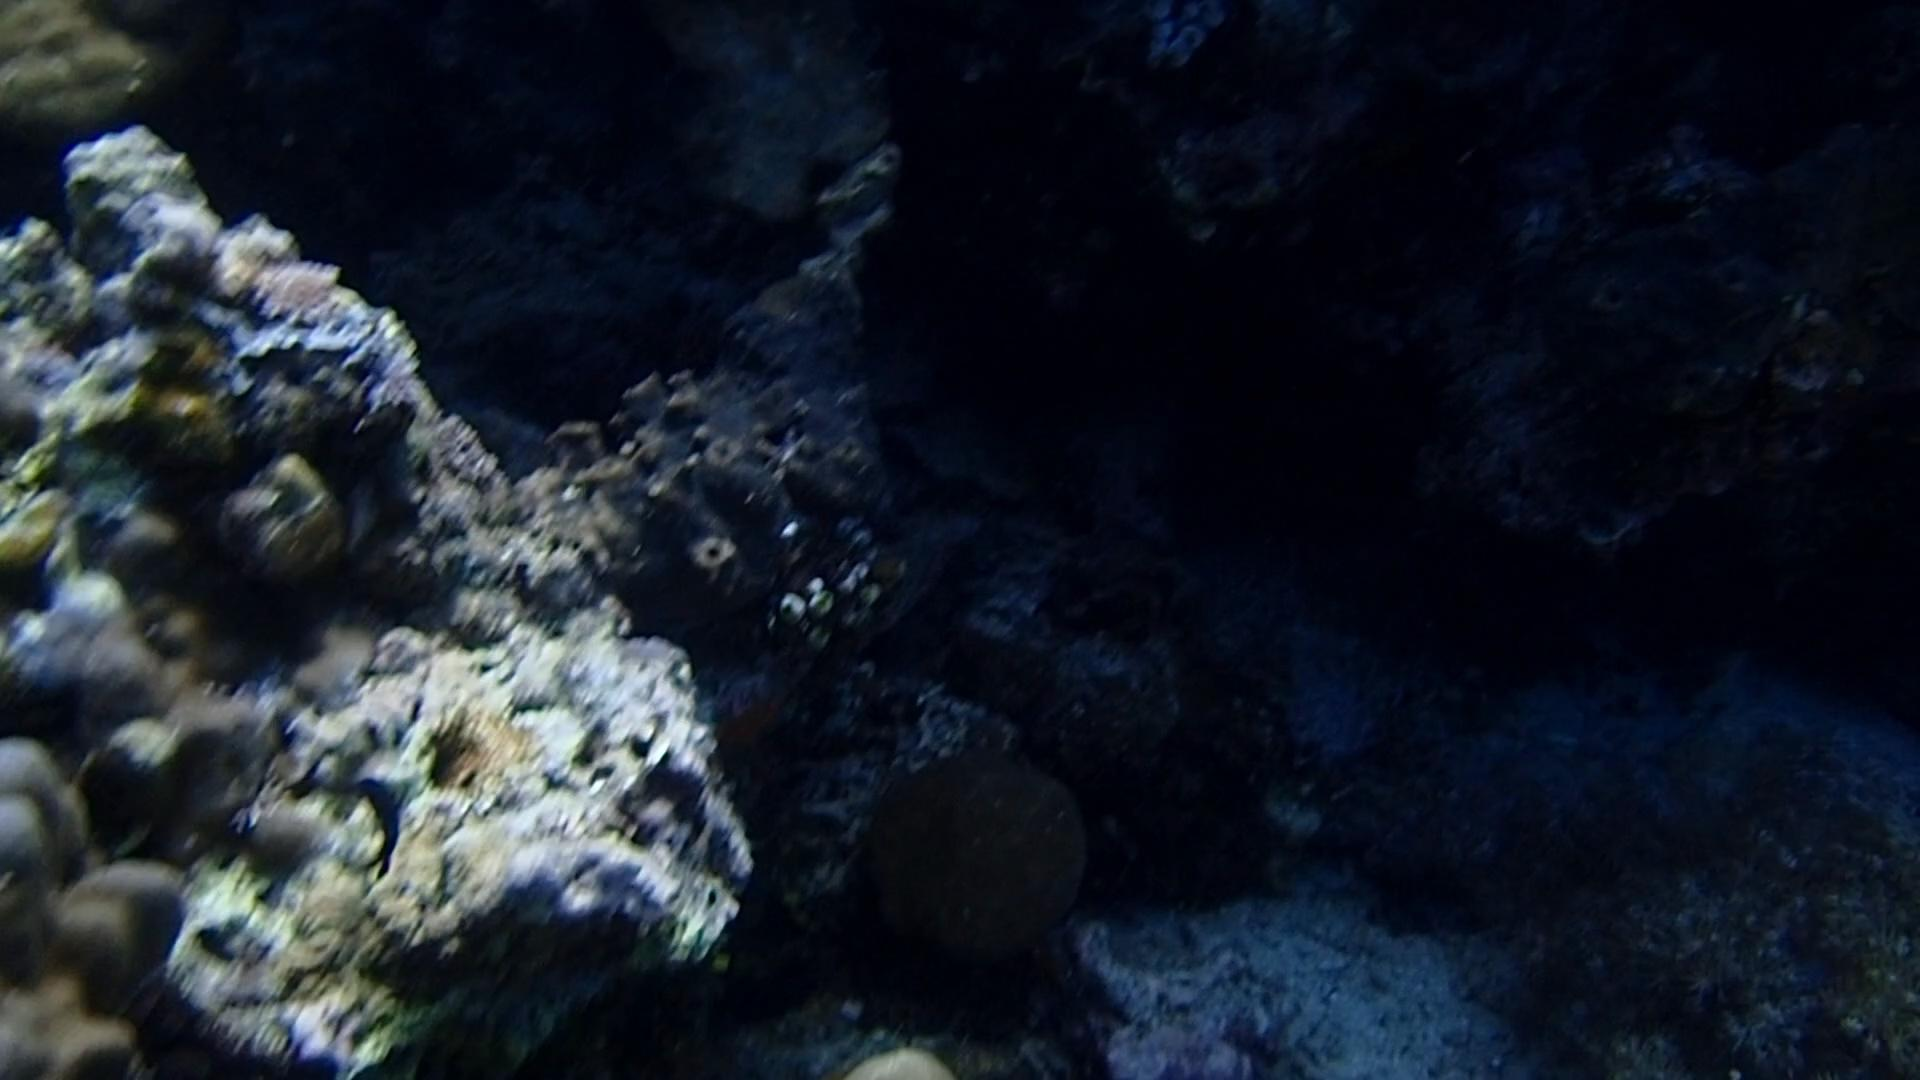Dark Fish: (327, 764, 421, 876)
